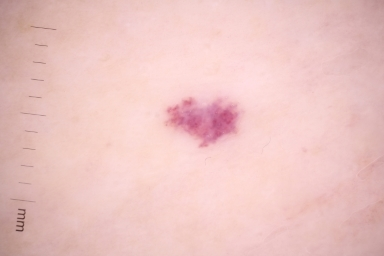nevus: (163, 91, 245, 152)
